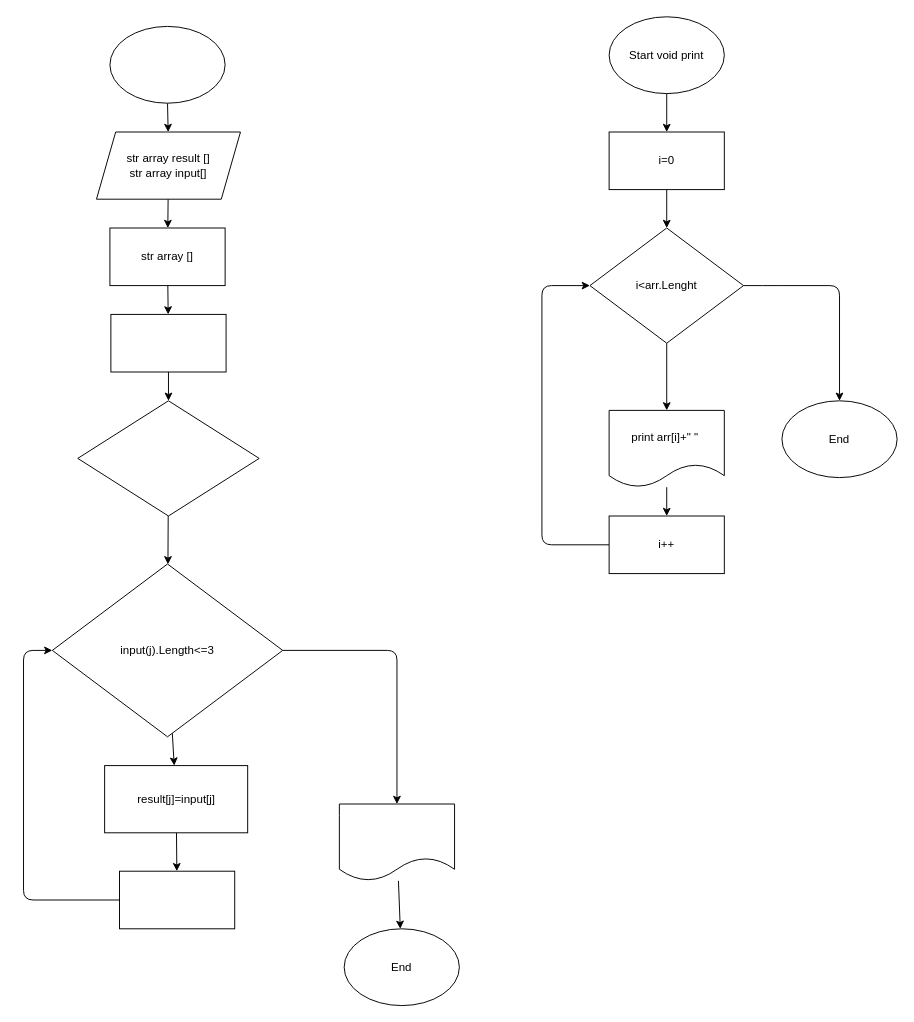
This 914x1022 diagram has some shape labels left out. Each missing label, with the box of its shape:
j++: (119, 870, 235, 929)
j<result.Length: (77, 400, 259, 516)
j=0: (110, 313, 226, 372)
print (result): (338, 803, 455, 881)
Start: (109, 25, 225, 103)
